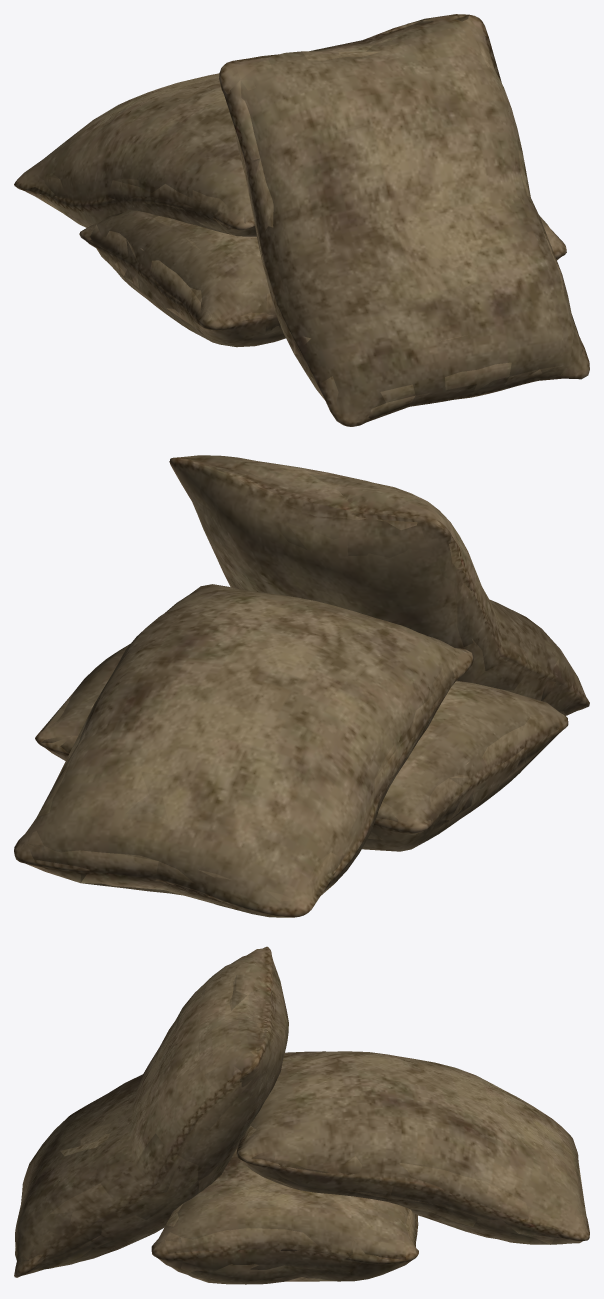
File: SackPileB.glb
3 views of the same model, one above another, from view 1: azimuth 30°, elevation 25°; view 2: azimuth 150°, elevation 25°; view 3: azimuth 270°, elevation 25° (orthographic). The views are drawn at different scales.
Visible parts, largest first — view 1: SackPileB; view 2: SackPileB; view 3: SackPileB.
Boxes of the visible parts, x1,y1,x2,y2 form: SackPileB: (14, 14, 589, 426); SackPileB: (14, 455, 589, 917); SackPileB: (14, 946, 589, 1284).
Bounding box in the file's own units: 0.8773 × 0.6514 × 1.36.
1 material, 1 textured.
